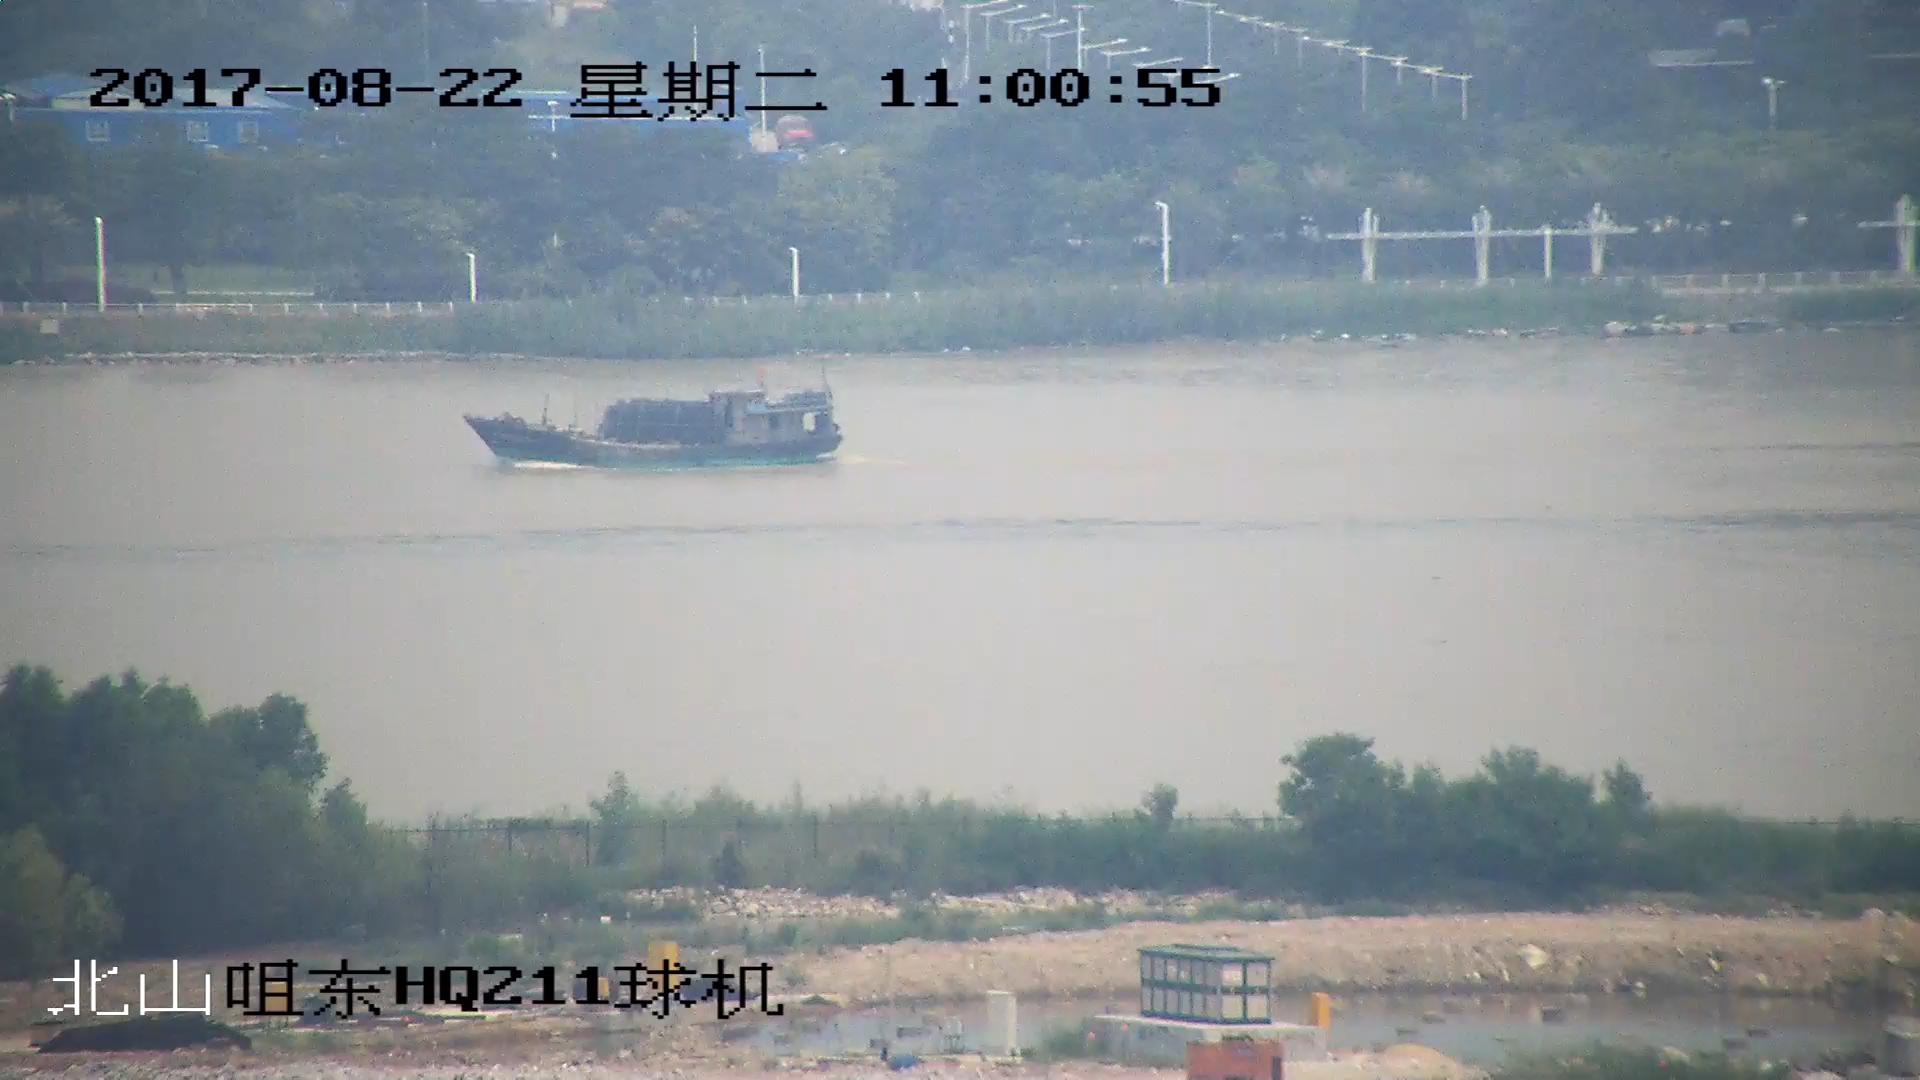fishing boat: (468, 386, 840, 472)
